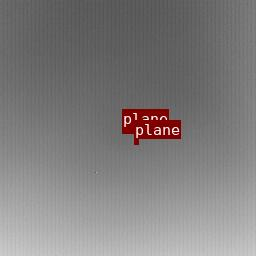plane: (122, 128, 134, 133), (134, 139, 138, 142)
